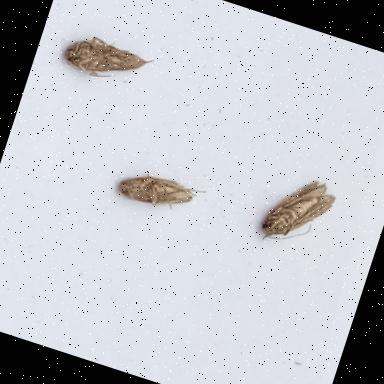pbw: (254, 167, 338, 260), (57, 30, 150, 90), (115, 168, 196, 220)
